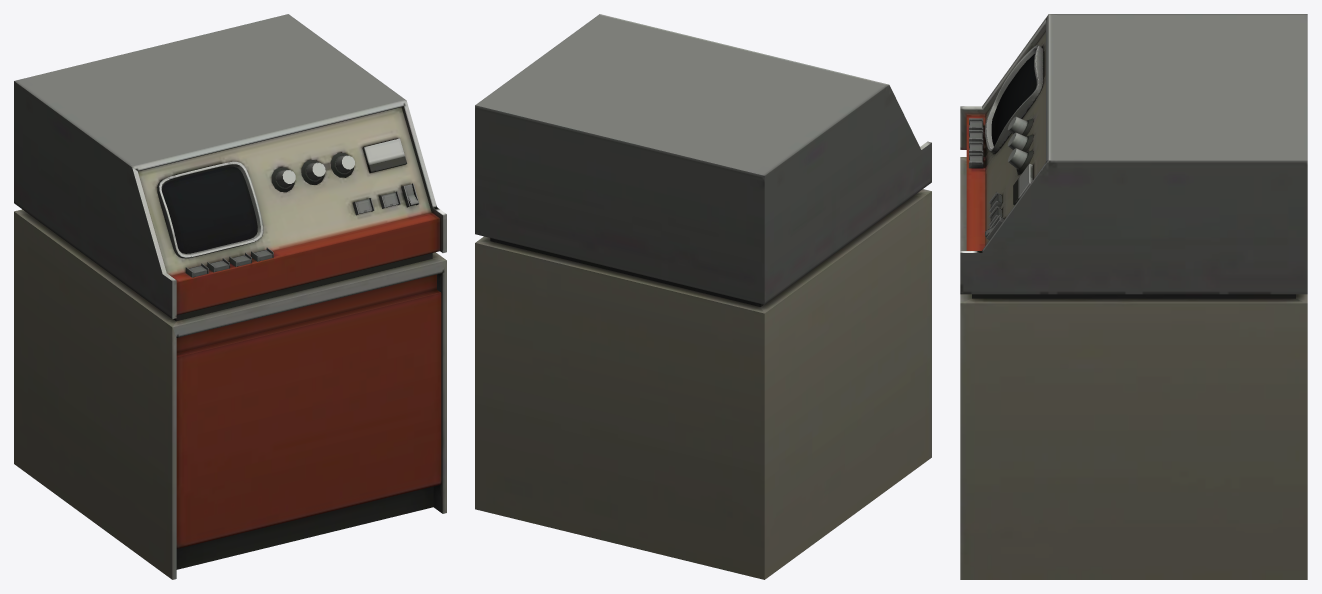
3 renders of one model, left to right at view 1: azimuth 30°, elevation 25°; view 2: azimuth 150°, elevation 25°; view 3: azimuth 270°, elevation 25°, orthographic. The views are drawn at different scales.
Parts seen in each view (by area): view 1: body0_model0_lod0_mesh0; view 2: body0_model0_lod0_mesh0; view 3: body0_model0_lod0_mesh0.
Boxes of the visible parts, left/top/right/bottom form: body0_model0_lod0_mesh0: left=14, top=14, right=446, bottom=579; body0_model0_lod0_mesh0: left=475, top=14, right=931, bottom=579; body0_model0_lod0_mesh0: left=960, top=14, right=1307, bottom=579.
Bounding box in the file's own units: 48 × 64 × 48.
Materials: 1 (1 with a texture image).
